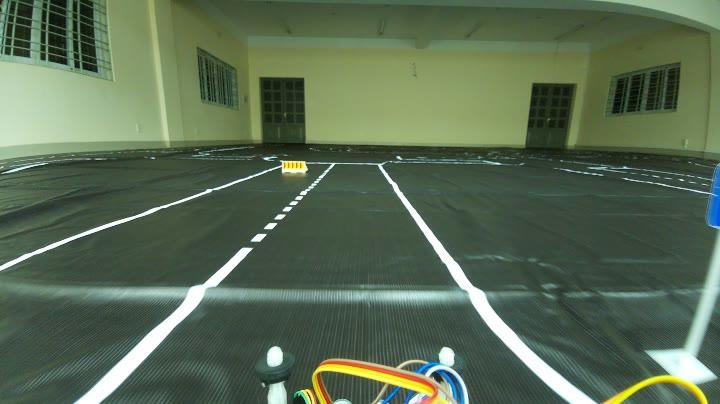roadblock: (279, 157, 304, 178)
